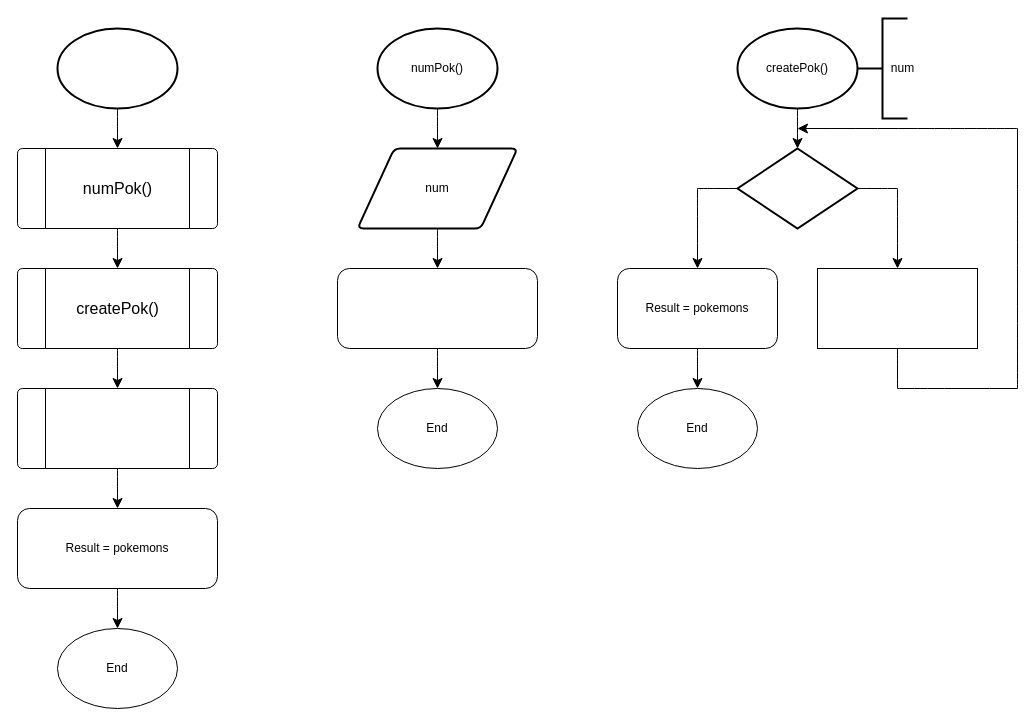
Some shapes in this 1036 by 726 pixel diagram are drawn without their labels. Each missing label, with the centre of its shape:
"num -= 1" belongs at (x=897, y=308).
"num > 0" belongs at (x=797, y=188).
"printPok()" belongs at (x=117, y=428).
"Result = num" belongs at (x=437, y=308).
"Start" belongs at (x=117, y=68).
